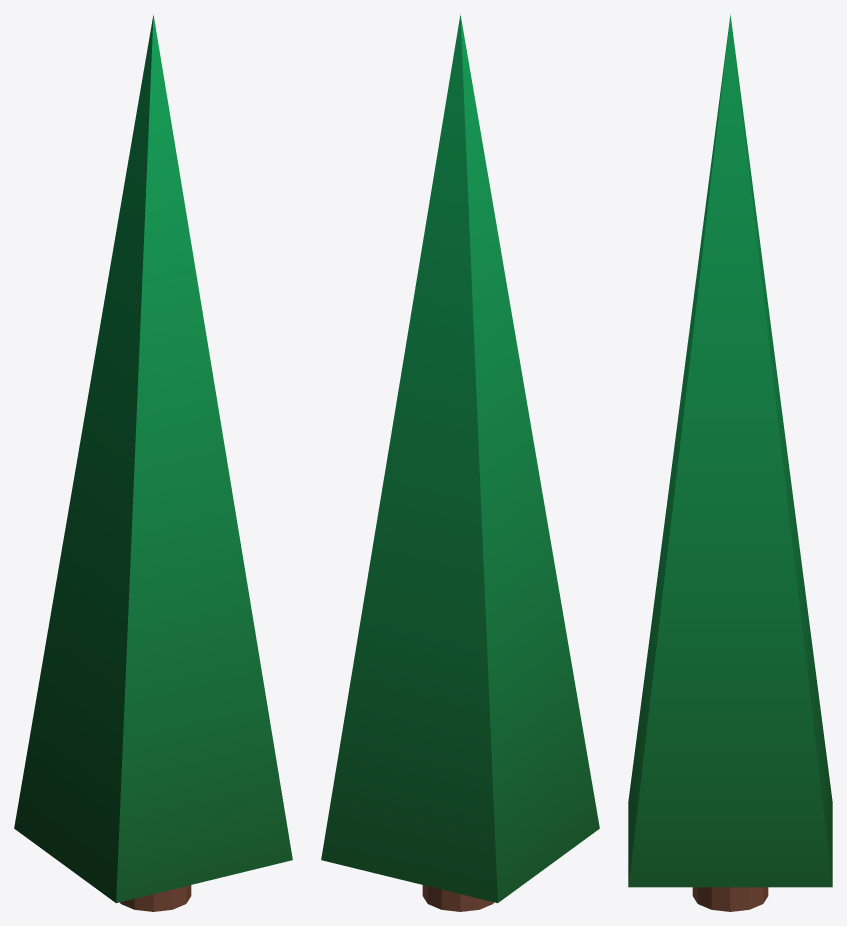
The model's file is Tree_19_gradient_green_vc.fbx.
3 renders of one model, left to right at view 1: azimuth 30°, elevation 25°; view 2: azimuth 150°, elevation 25°; view 3: azimuth 270°, elevation 25°, orthographic.
Visible parts, largest first — view 1: Tree_19_gradient_green_vc; view 2: Tree_19_gradient_green_vc; view 3: Tree_19_gradient_green_vc.
Part boxes in pixels (x1,y1,x2,y2): Tree_19_gradient_green_vc: [14, 14, 292, 911]; Tree_19_gradient_green_vc: [321, 14, 599, 911]; Tree_19_gradient_green_vc: [628, 14, 832, 911].
Bounding box in the file's own units: 59.69 × 285 × 59.69.
